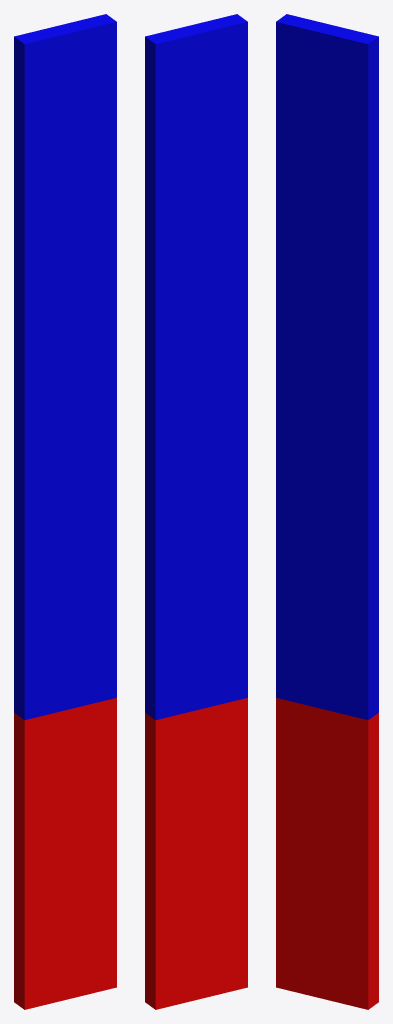
3 renders of one model, left to right at view 1: azimuth 30°, elevation 25°; view 2: azimuth 210°, elevation 25°; view 3: azimuth 330°, elevation 25°, orthographic.
Parts seen in each view (by area): view 1: SM_100Lx20Dx1000H; view 2: SM_100Lx20Dx1000H; view 3: SM_100Lx20Dx1000H.
Part boxes in pixels (<box>): SM_100Lx20Dx1000H: <box>14,14,116,1009</box>; SM_100Lx20Dx1000H: <box>145,14,247,1009</box>; SM_100Lx20Dx1000H: <box>276,14,378,1009</box>.
Bounding box in the file's own units: 100 × 1000 × 20.
